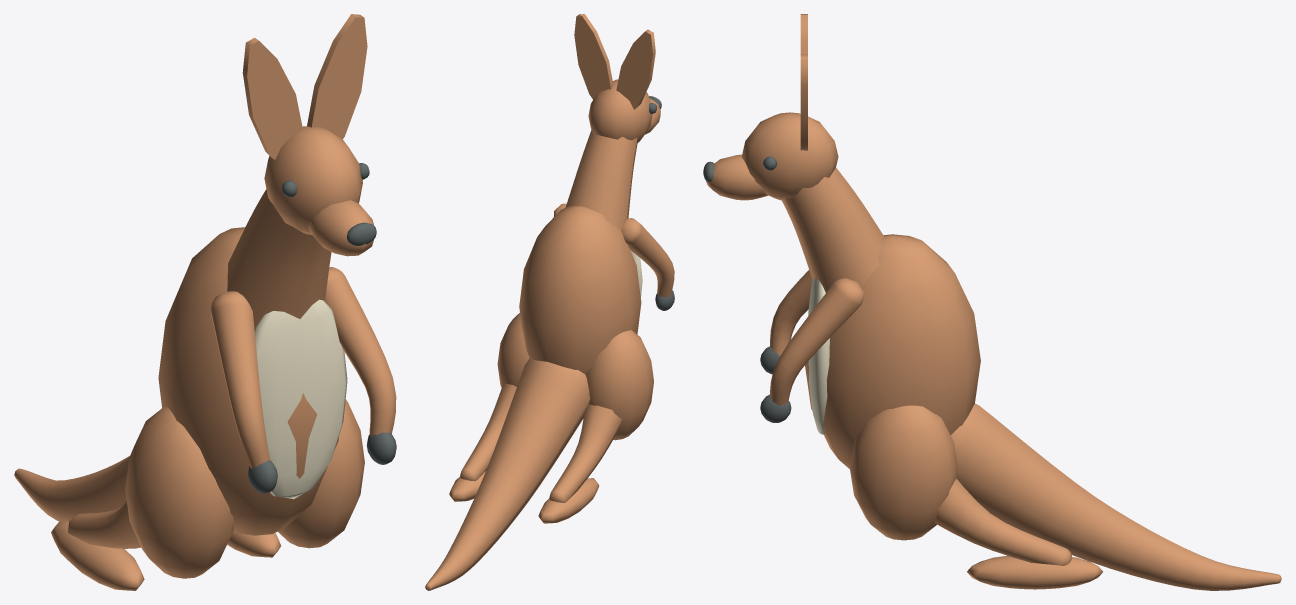
Rendered from outback-and-australian-wildlife-kangaroo-bounding-ff6e12d6__5906.glb.
3 renders of one model, left to right at view 1: azimuth 30°, elevation 25°; view 2: azimuth 150°, elevation 25°; view 3: azimuth 270°, elevation 25°, orthographic. The views are drawn at different scales.
Parts seen in each view (by area): view 1: kangaroo-bounding; view 2: kangaroo-bounding; view 3: kangaroo-bounding.
Part boxes in pixels (box(x1,y1,x2,y2)): kangaroo-bounding: box(14, 14, 396, 590); kangaroo-bounding: box(425, 14, 674, 590); kangaroo-bounding: box(703, 14, 1281, 590).
Bounding box in the file's own units: 0.7401 × 2.15 × 2.03.
